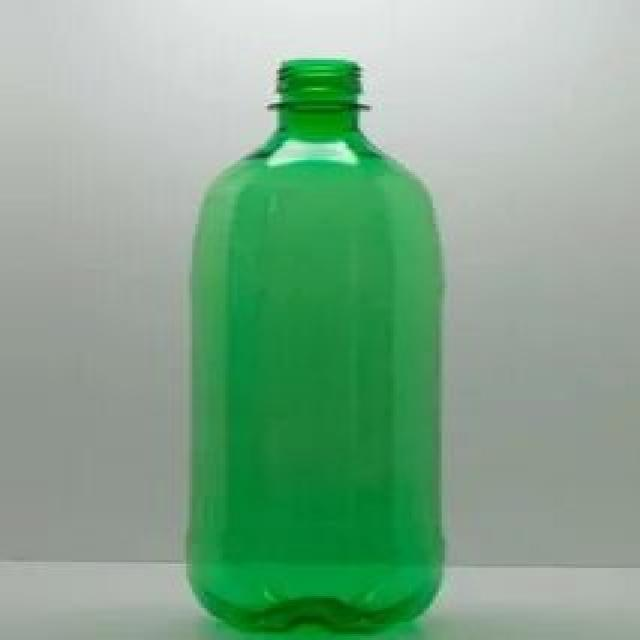green: (190, 60, 441, 640)
